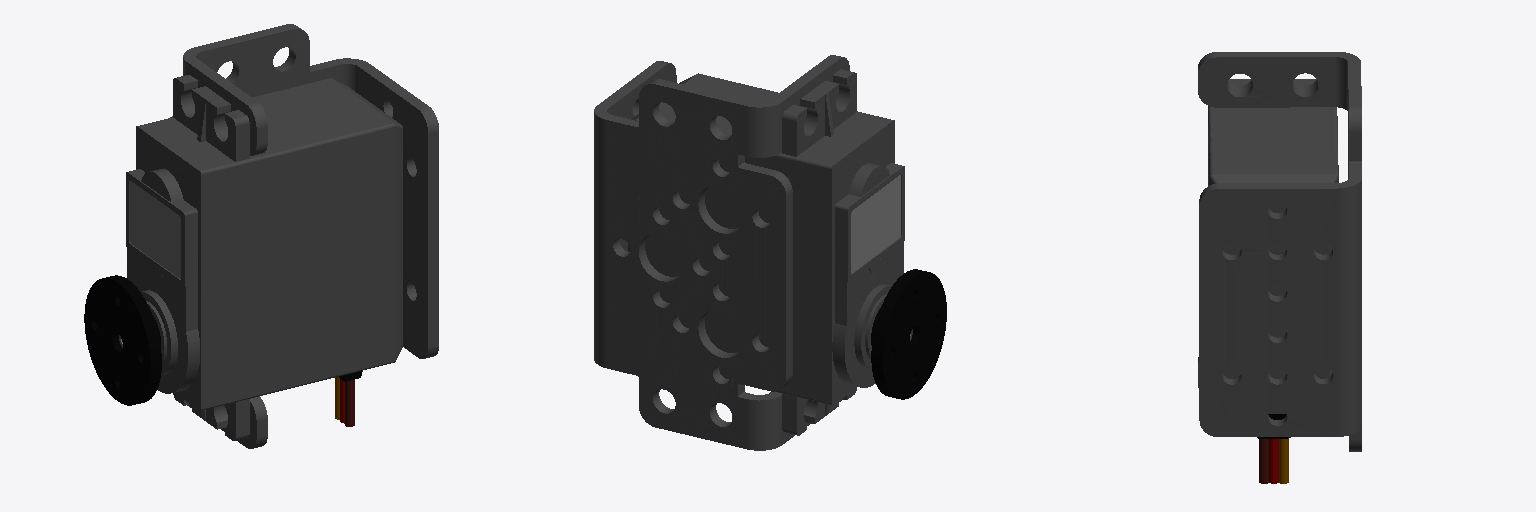
File: art_04.obj
The picture shows the model from 3 angles: view 1: azimuth 30°, elevation 25°; view 2: azimuth 150°, elevation 25°; view 3: azimuth 270°, elevation 25°; orthographic projection.
Visible parts, largest first — view 1: Imported1; view 2: Imported1; view 3: Imported1.
Boxes of the visible parts, <box> form: Imported1: <box>84,24,438,448</box>; Imported1: <box>594,55,946,450</box>; Imported1: <box>1198,52,1361,483</box>.
Bounding box in the file's own units: 1.99 × 2.45 × 0.994.